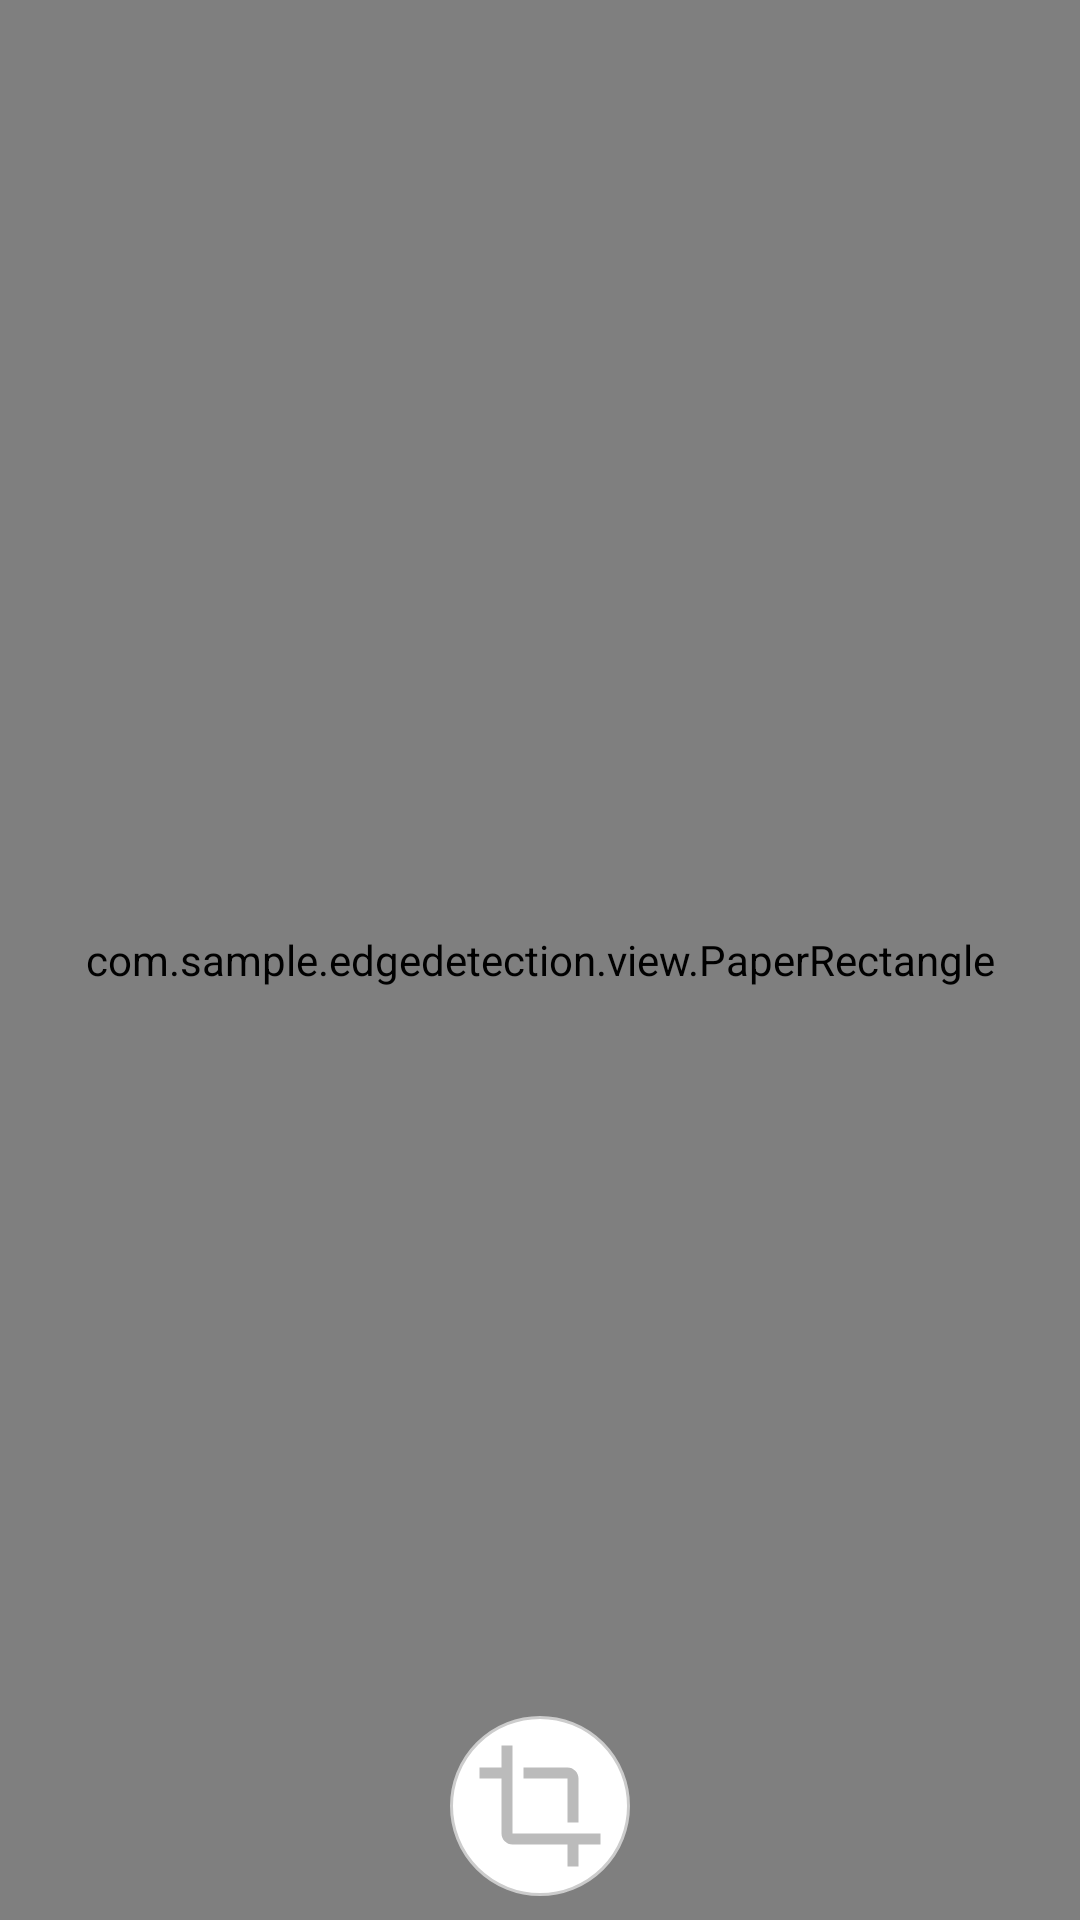

Screen size 1080x1920. Icon name, then its center in pixels as point (x, y):
crop: point (540, 1806)
